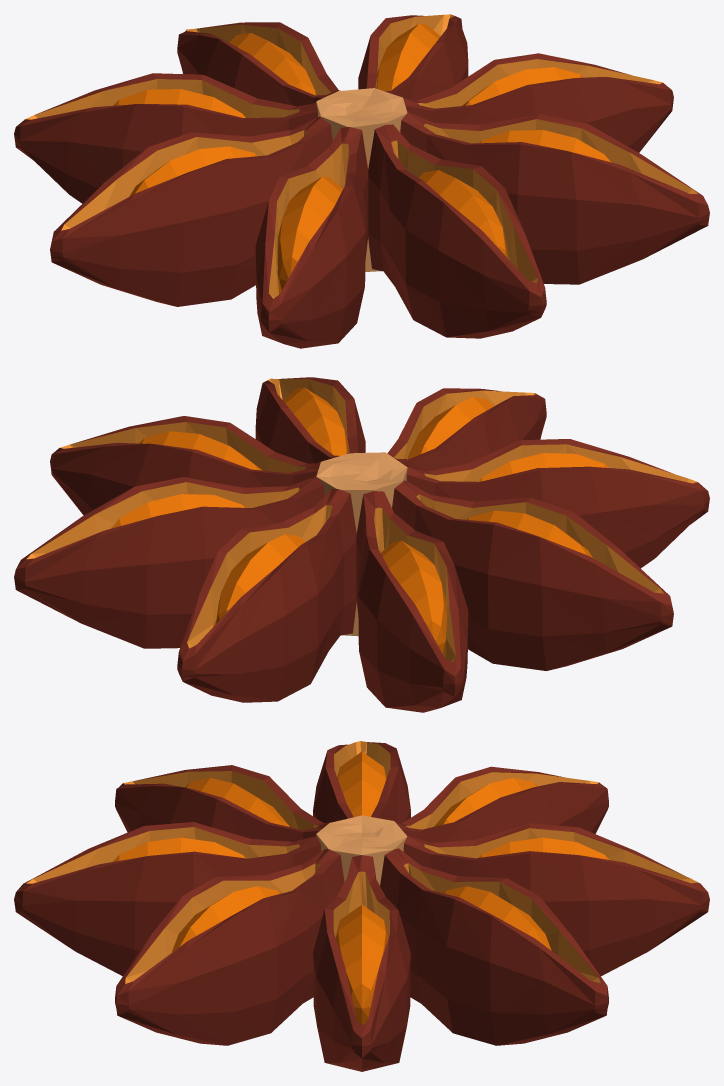
3 views of the same model, one above another, from view 1: azimuth 30°, elevation 25°; view 2: azimuth 150°, elevation 25°; view 3: azimuth 270°, elevation 25° (orthographic). The views are drawn at different scales.
Visible parts, largest first — view 1: Node; view 2: Node; view 3: Node.
Boxes of the visible parts, <box> form: Node: <box>14,14,709,348</box>; Node: <box>14,377,709,712</box>; Node: <box>14,741,709,1071</box>.
Bounding box in the file's own units: 326 × 75.93 × 326.
